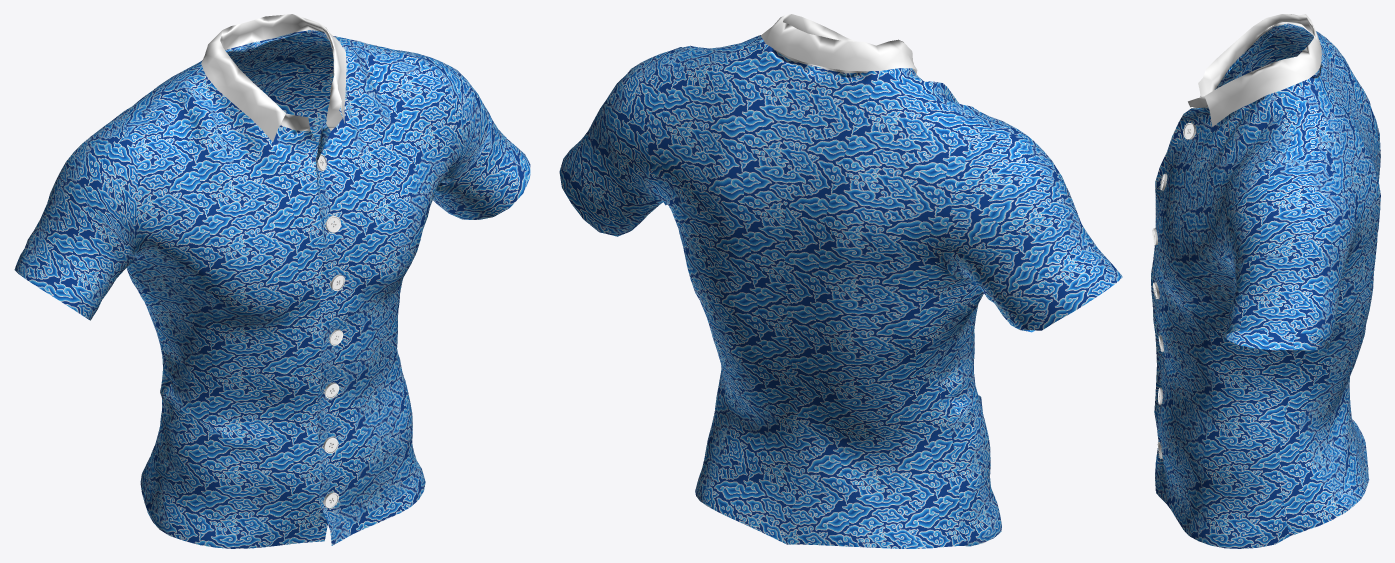
The model's file is Baju Kerah.fbx.
3 renders of one model, left to right at view 1: azimuth 30°, elevation 25°; view 2: azimuth 150°, elevation 25°; view 3: azimuth 270°, elevation 25°, orthographic. The views are drawn at different scales.
Visible parts, largest first — view 1: Baju dengan kerah.002; view 2: Baju dengan kerah.002; view 3: Baju dengan kerah.002.
Boxes of the visible parts, box(x1,y1,x2,y2) form: Baju dengan kerah.002: box(14, 14, 530, 548); Baju dengan kerah.002: box(559, 14, 1122, 548); Baju dengan kerah.002: box(1151, 14, 1380, 548).
Bounding box in the file's own units: 6760 × 6074 × 2729.
Materials: 4 (2 with a texture image).
